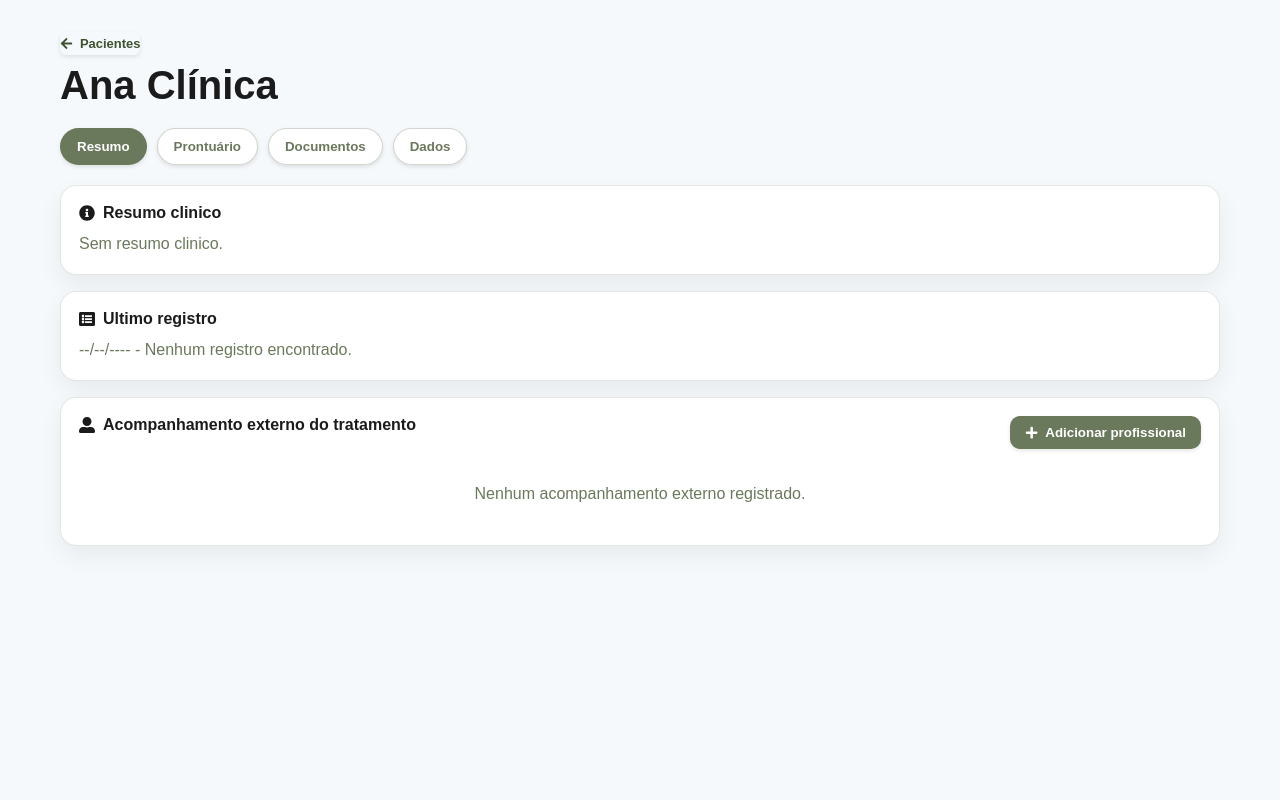
Test: PatientDetails clinical resource version propagation › passes the loaded reference version to delete
Check: the heading "Ana Clínica" is shown, box [60,63,278,108]
Click the button "Prontuário". click: {"x": 207, "y": 146}
box: [157,128,258,165]
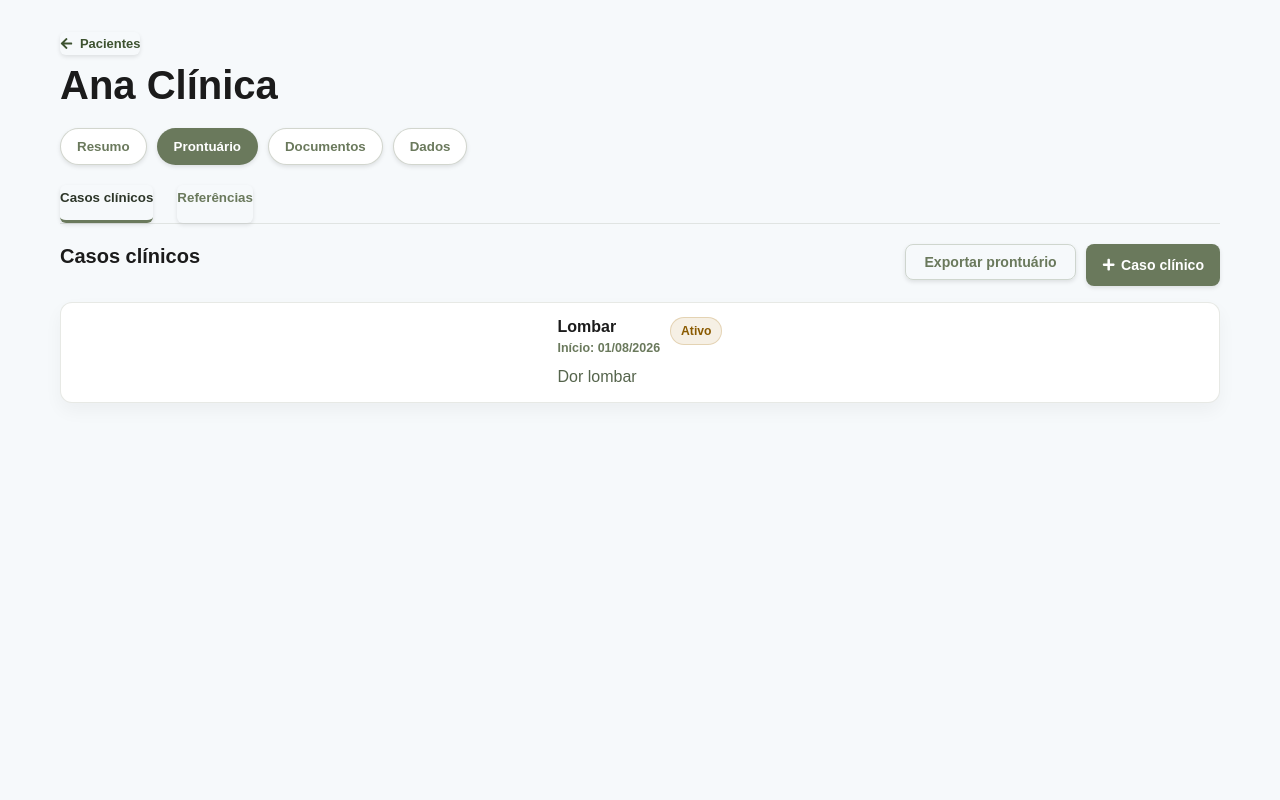
Click the tab "Referências". click: {"x": 215, "y": 204}
box: [177,185,253,223]
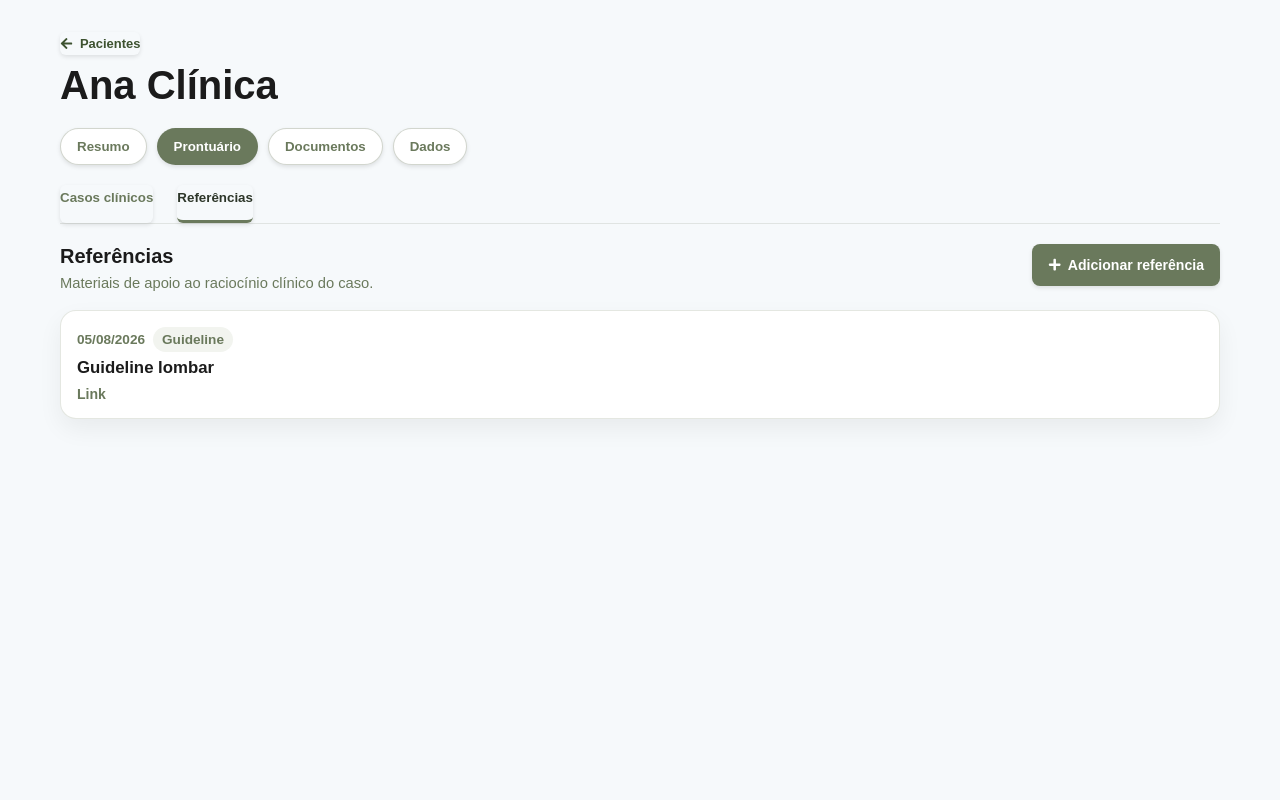
Click the button "05/08/2026 Guideline Guideline lombar Link". click: {"x": 111, "y": 339}
box: [60,310,1220,419]
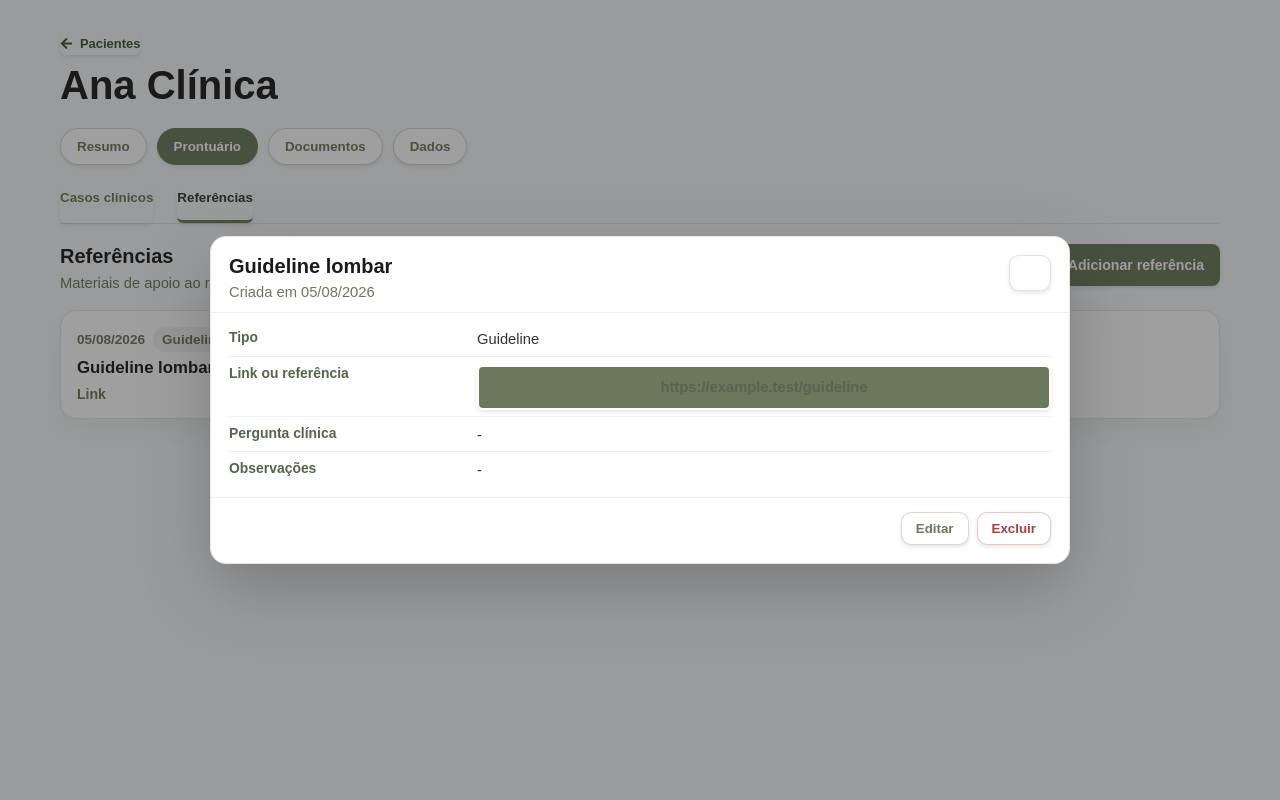
Click the button "Excluir". click: {"x": 1014, "y": 528}
box: [976,512,1051,545]
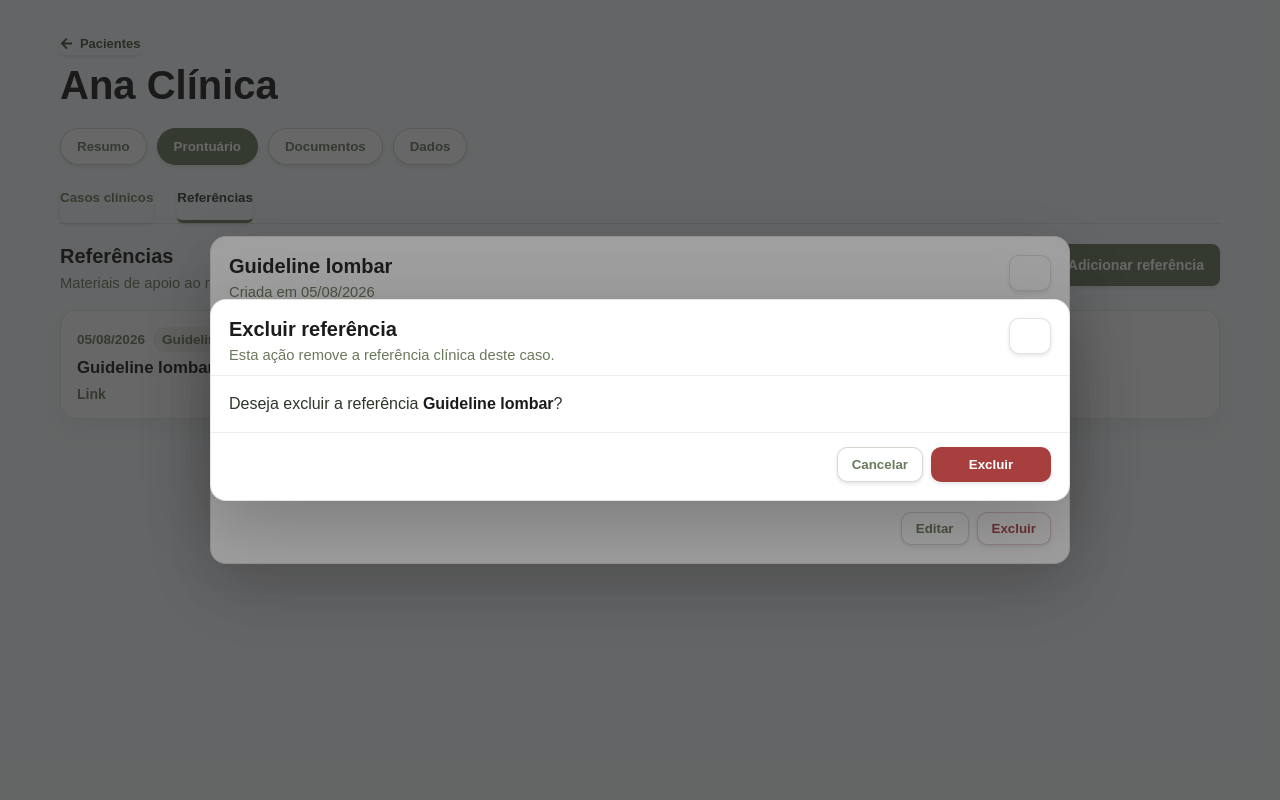
Click the button "Excluir". click: {"x": 991, "y": 464}
box: [931,447,1051,482]
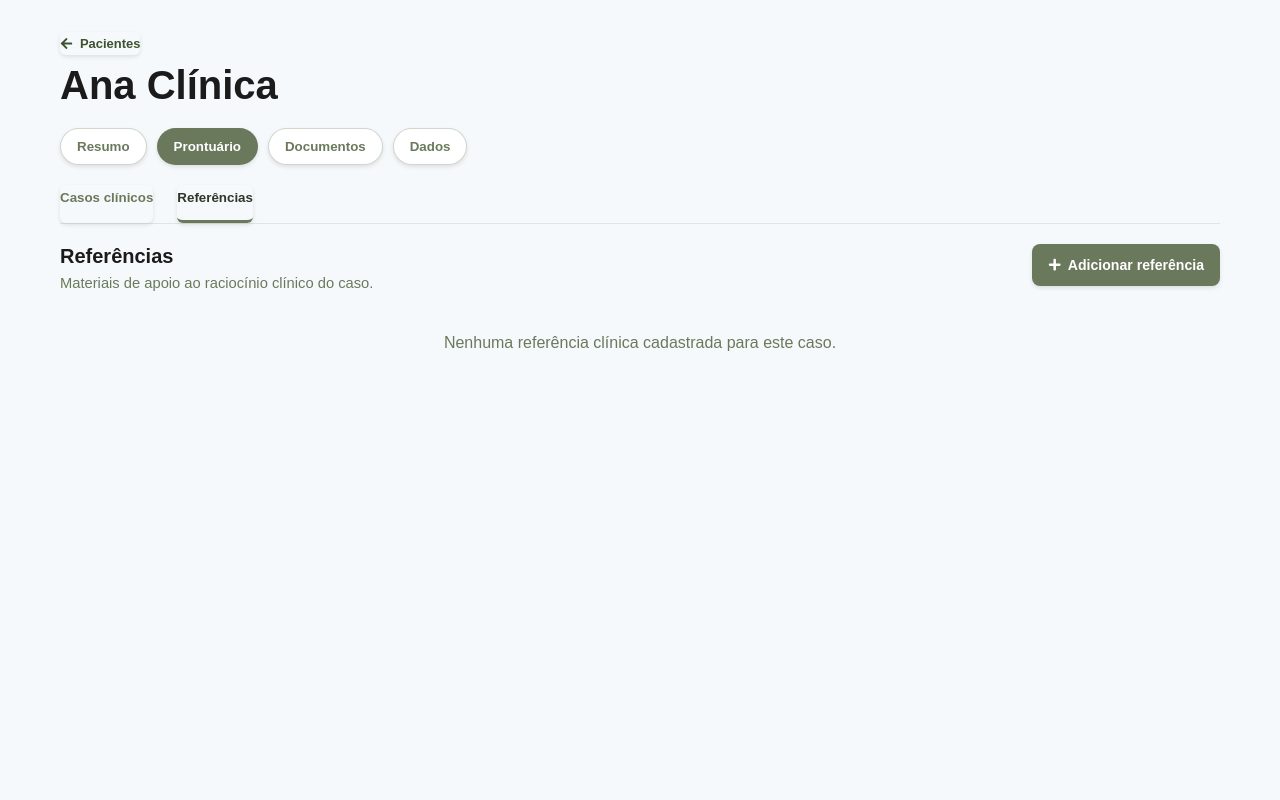
Check: the button "Guideline lombar" is gone
